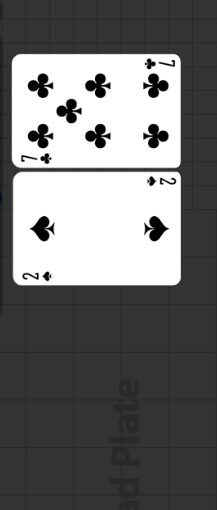2S: (144, 175, 177, 188)
7C: (141, 57, 176, 72)
